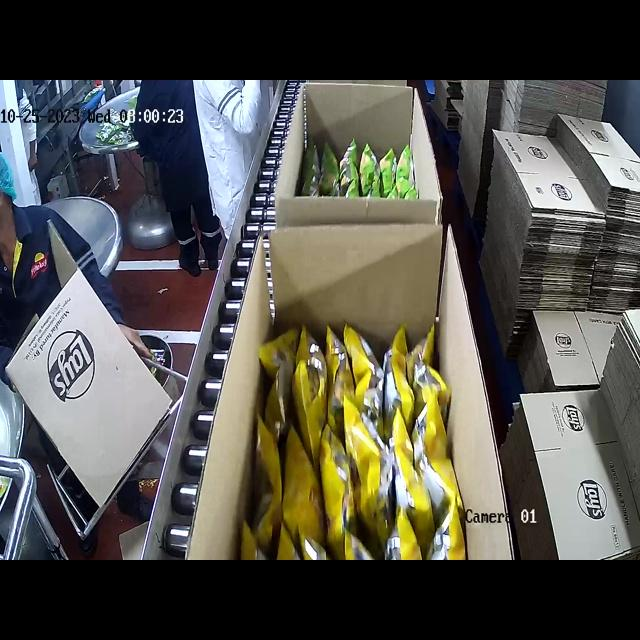salted: (257, 316, 456, 560)
yogurt: (306, 130, 416, 198)
